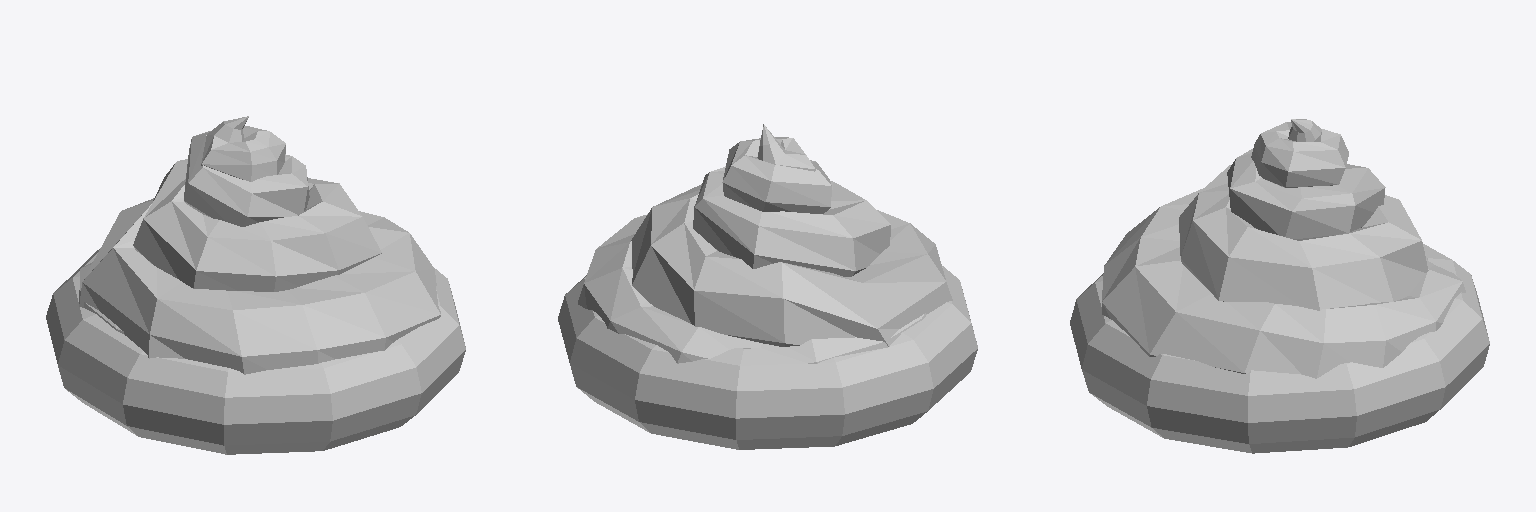
The model's file is poop.obj.
3 views of the same model, side by side, from view 1: azimuth 30°, elevation 25°; view 2: azimuth 150°, elevation 25°; view 3: azimuth 270°, elevation 25° (orthographic).
Parts seen in each view (by area): view 1: group[number redacted]; view 2: group[number redacted]; view 3: group[number redacted].
Boxes of the visible parts, <box> form: group[number redacted]: <box>46,116,465,454</box>; group[number redacted]: <box>558,124,977,449</box>; group[number redacted]: <box>1070,119,1489,453</box>.
Size of the model in its own units: 0.26 by 0.1861 by 0.26.